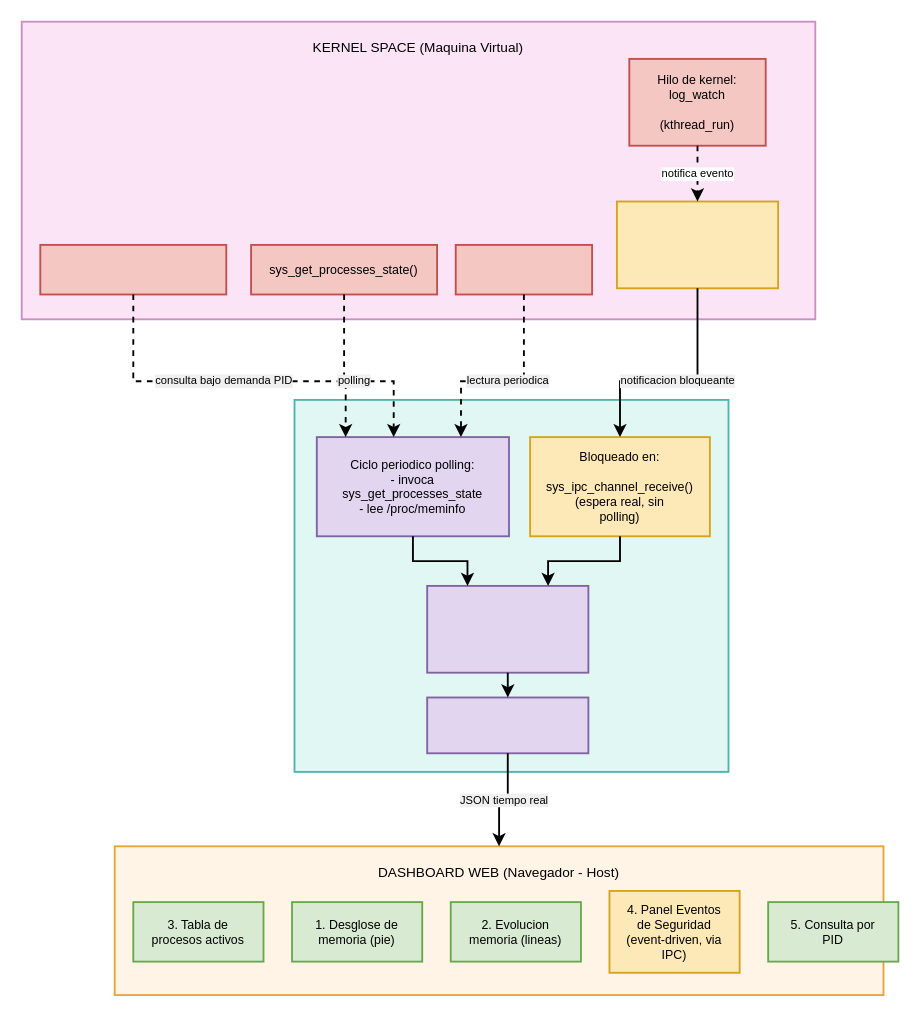
The diagram is 921 pixels wide and 1018 high, and some of its shapes have lost their labels. Each missing label, with the box of its shape:
/proc/meminfo: (454, 243, 592, 295)
Canal IPC sys_ipc_channel_send / receive: (615, 200, 778, 289)
Generador de JSON memoria + procesos + eventos_seguridad: (426, 584, 589, 673)
Servidor HTTP / WebSocket: (426, 696, 589, 754)
sys_get_process_info(pid): (39, 243, 227, 295)
USER SPACE - Daemon en C (Maquina Virtual): (293, 398, 729, 772)
